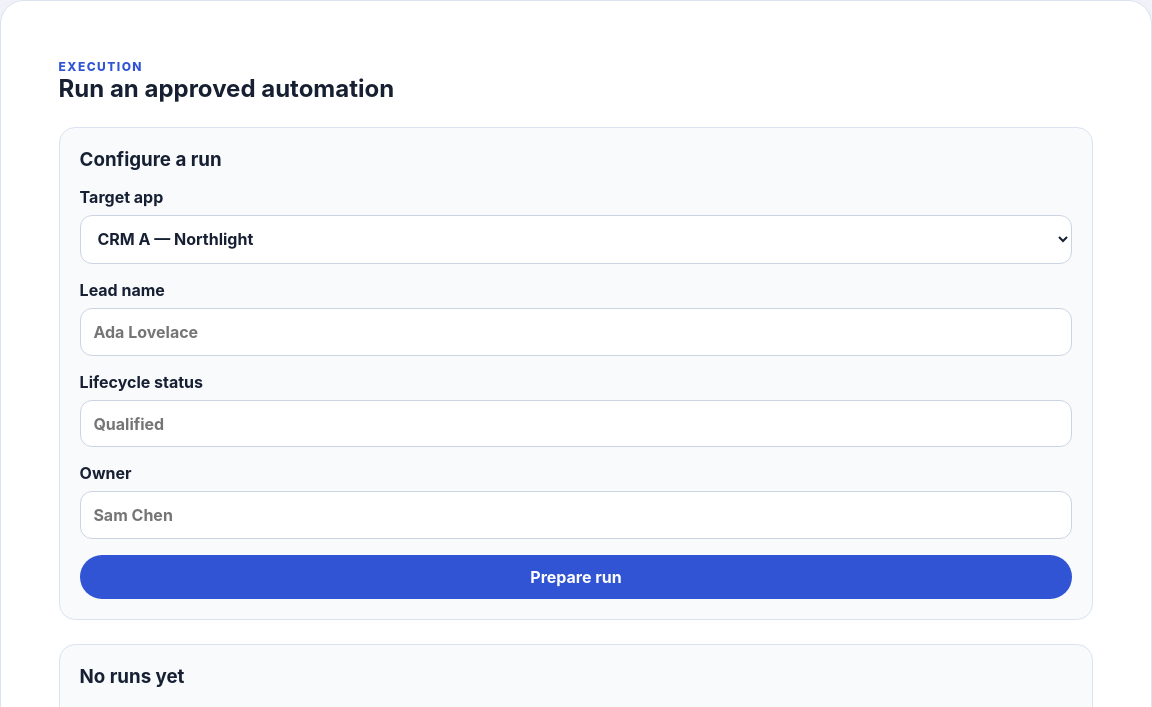
ExecutionPage run configuration › renders field-level errors from a 422 and an empty-state that points at the form
expect the heading "No runs yet" is shown: met, box [80, 665, 184, 688]
expect the dropdown labelled "Target app" is shown: met, box [80, 215, 1072, 264]
Click the button "Prepare run": (576, 577) [80, 555, 1072, 599]
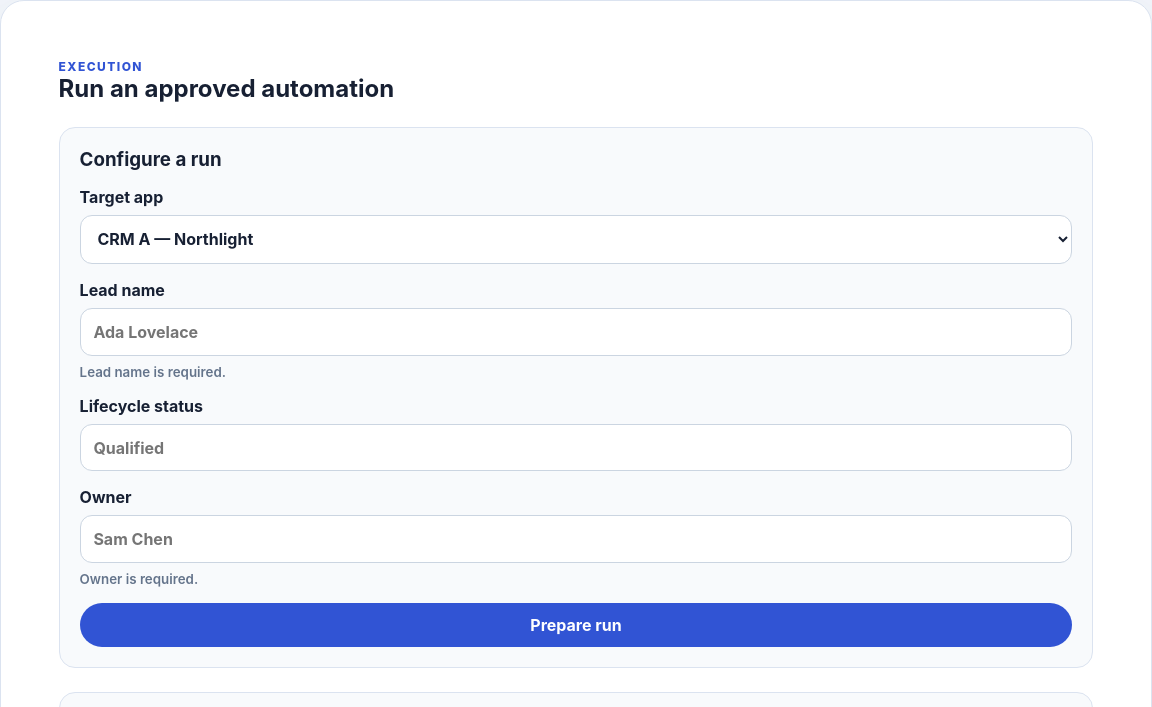
expect the text "Lead name is required." is shown: met, box [80, 364, 226, 380]
expect the text "Owner is required." is shown: met, box [80, 571, 198, 587]
